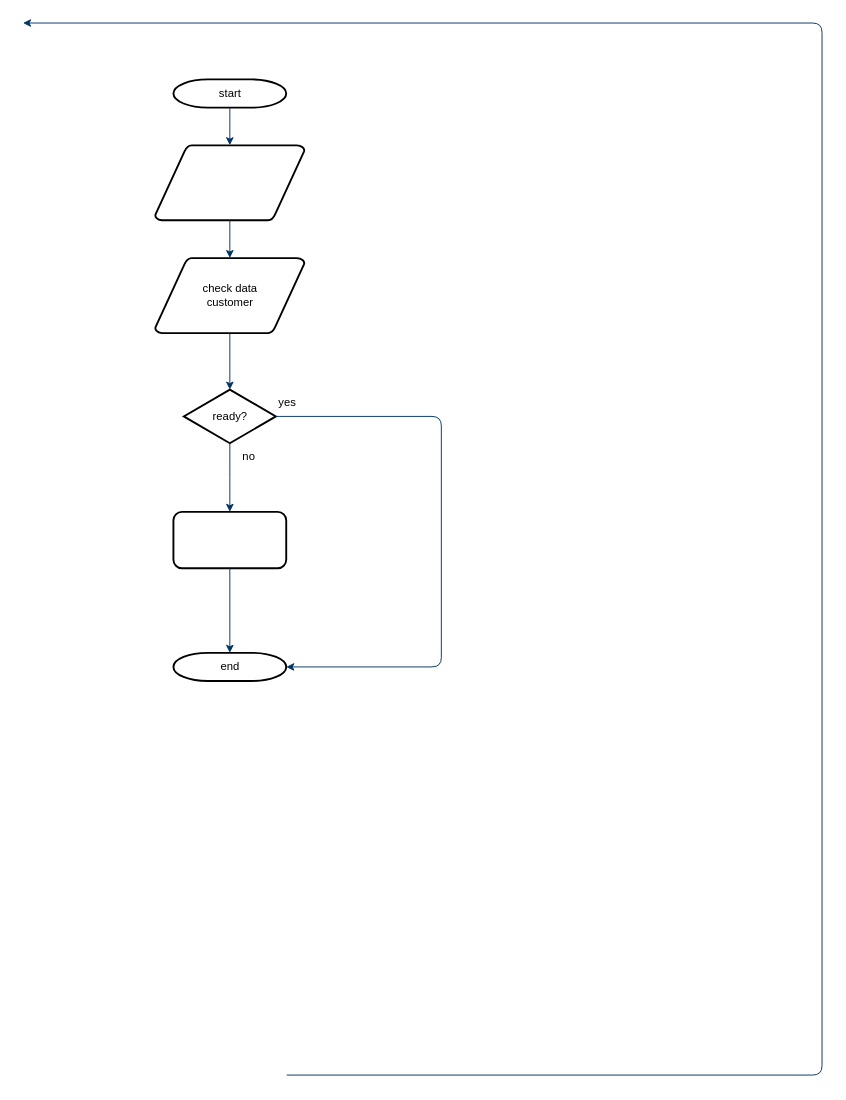
Some shapes in this 846 by 1100 pixel diagram are drawn without their labels. The box of each missing label's shape, as (x1, y1, x2, y2) in pixels:
input data customer: (154, 144, 305, 221)
save data: (172, 510, 287, 569)
